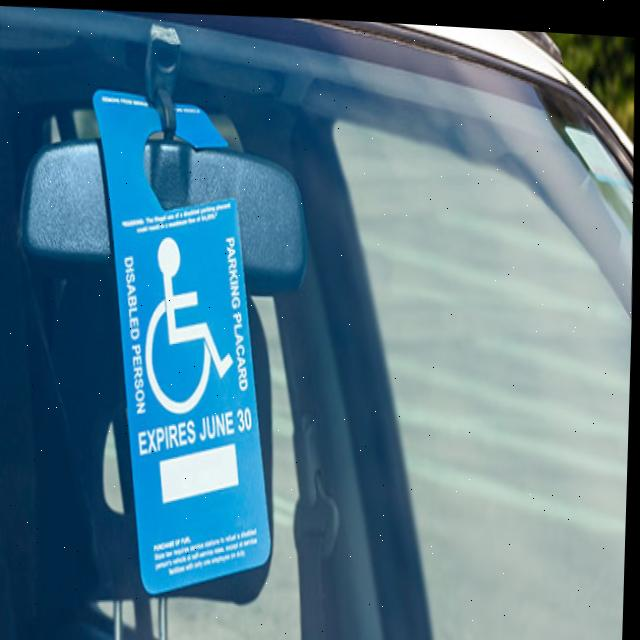symbol_of_access: (132, 223, 243, 419)
